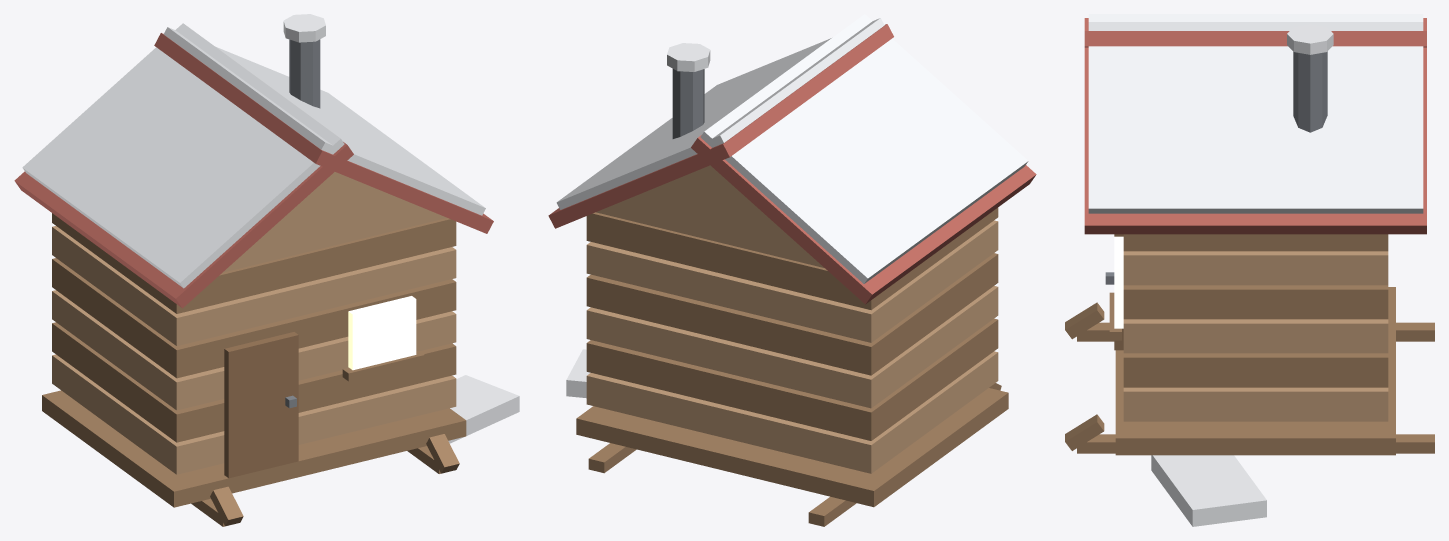
File: fishing_hut.glb
3 renders of one model, left to right at view 1: azimuth 30°, elevation 25°; view 2: azimuth 150°, elevation 25°; view 3: azimuth 270°, elevation 25°, orthographic. The views are drawn at different scales.
Visible parts, largest first — view 1: RoofSnow, Plank4, Floor, Plank0, Plank3, Plank1, Door, Plank5, RoofSnow.001, Plank2, Gable, Roof (+8 smaller); view 2: RoofSnow, Floor, Plank2, Plank3, Plank4, Plank0, Plank1, Plank5, RoofSnow.001, Gable.001, Roof, Roof.001 (+5 smaller); view 3: RoofSnow.001, Floor, Plank1, Plank0, Plank2, Plank3, Plank4, Roof.001, SnowDrift, Plank5, Roof, RoofSnow (+7 smaller).
Part boxes in pixels (<box>): RoofSnow: <box>22,23,344,288</box>; Plank4: <box>52,226,456,345</box>; Floor: <box>42,390,466,507</box>; Plank0: <box>52,354,456,474</box>; Plank3: <box>52,258,456,378</box>; Plank1: <box>52,322,456,442</box>; Door: <box>224,332,298,478</box>; Plank5: <box>52,213,456,313</box>; RoofSnow.001: <box>163,27,485,215</box>; Plank2: <box>52,290,456,410</box>; Gable: <box>223,172,446,272</box>; Roof: <box>14,142,353,308</box>; RoofSnow: <box>700,14,1028,283</box>; Floor: <box>576,388,1008,507</box>; Plank2: <box>586,286,998,408</box>; Plank3: <box>586,253,998,375</box>; Plank4: <box>586,220,998,342</box>; Plank0: <box>586,351,998,473</box>; Plank1: <box>586,318,998,440</box>; Plank5: <box>586,207,998,310</box>; RoofSnow.001: <box>556,18,884,209</box>; Gable.001: <box>596,165,824,267</box>; Roof: <box>691,135,1036,304</box>; Roof.001: <box>548,24,893,228</box>; RoofSnow.001: <box>1088,14,1423,213</box>; Floor: <box>1115,287,1395,455</box>; Plank1: <box>1123,353,1388,387</box>; Plank0: <box>1123,387,1388,421</box>; Plank2: <box>1123,319,1388,353</box>; Plank3: <box>1123,285,1388,319</box>; Plank4: <box>1123,251,1388,285</box>; Roof.001: <box>1084,18,1426,234</box>; SnowDrift: <box>1151,455,1266,526</box>; Plank5: <box>1123,234,1388,251</box>; Roof: <box>1084,31,1426,47</box>; RoofSnow: <box>1088,22,1423,30</box>.
Size of the model in its own units: 3.11 by 2.91 by 2.38.
